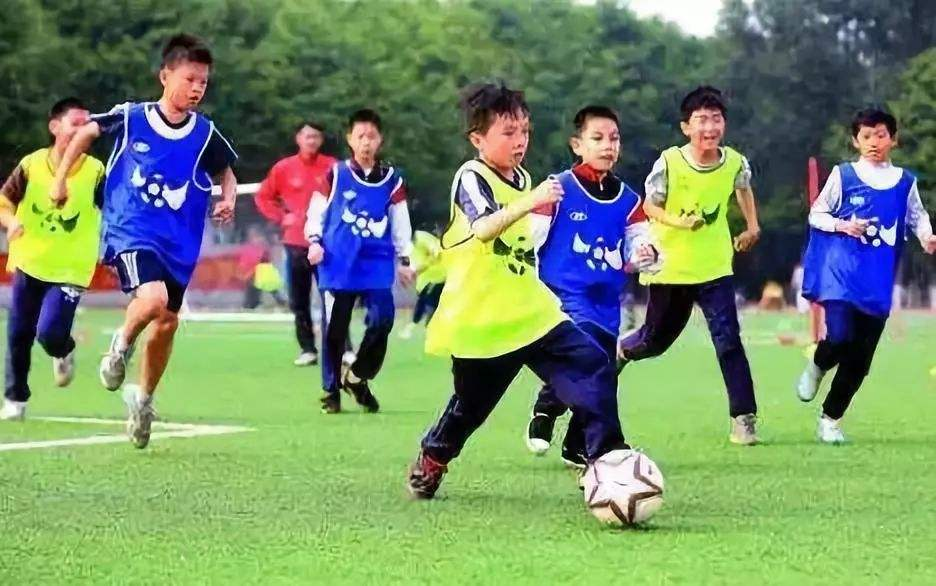football: (583, 450, 667, 531)
